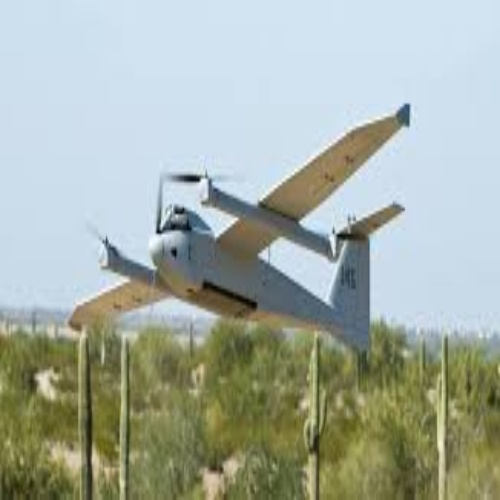uav394: (67, 105, 403, 358)
